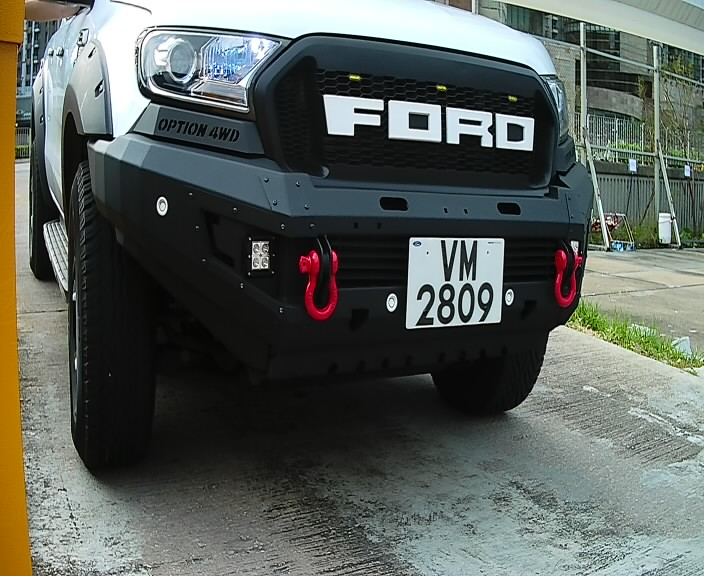Car: (21, 3, 618, 467)
License Plate: (404, 230, 510, 340)
